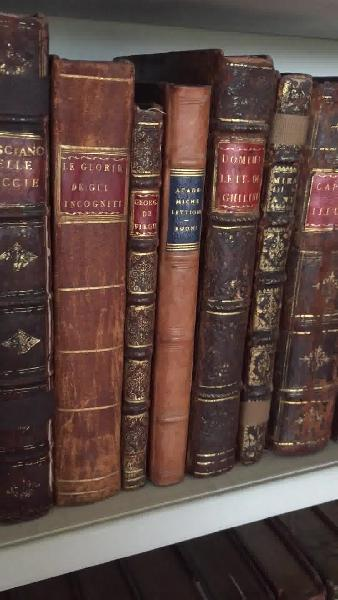Aa6-33: (44, 49, 130, 500)
Aa6-34: (133, 100, 157, 489)
Aa6-35: (163, 77, 205, 504)
Aa6-36: (202, 39, 268, 468)
Aa6-37: (239, 49, 313, 468)
